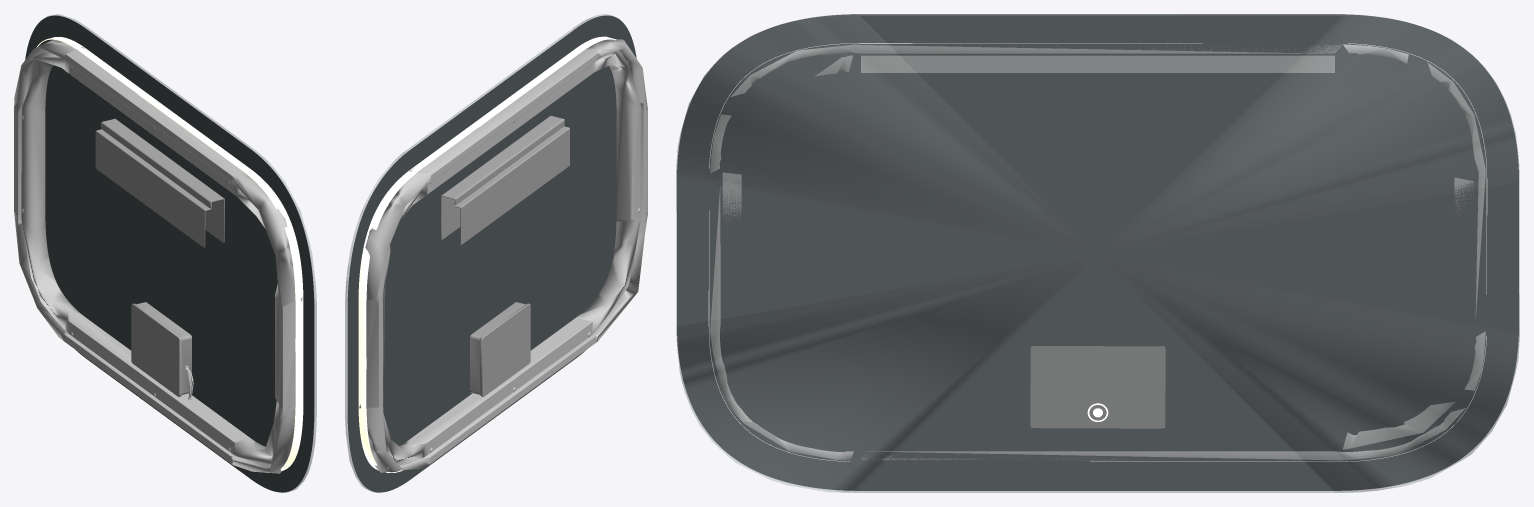
The model's file is mirror_bathroom_a01.glb.
3 renders of one model, left to right at view 1: azimuth 30°, elevation 25°; view 2: azimuth 150°, elevation 25°; view 3: azimuth 270°, elevation 25°, orthographic. The views are drawn at different scales.
Parts seen in each view (by area): view 1: sm_mirror_bathroom_a01_01; view 2: sm_mirror_bathroom_a01_01; view 3: sm_mirror_bathroom_a01_01.
Part boxes in pixels (x1,y1,x2,y2): sm_mirror_bathroom_a01_01: [14, 14, 316, 492]; sm_mirror_bathroom_a01_01: [345, 14, 647, 492]; sm_mirror_bathroom_a01_01: [676, 14, 1519, 492].
Size of the model in its own units: 0.0385 by 0.5003 by 0.8003.
8 materials, 3 textured.
